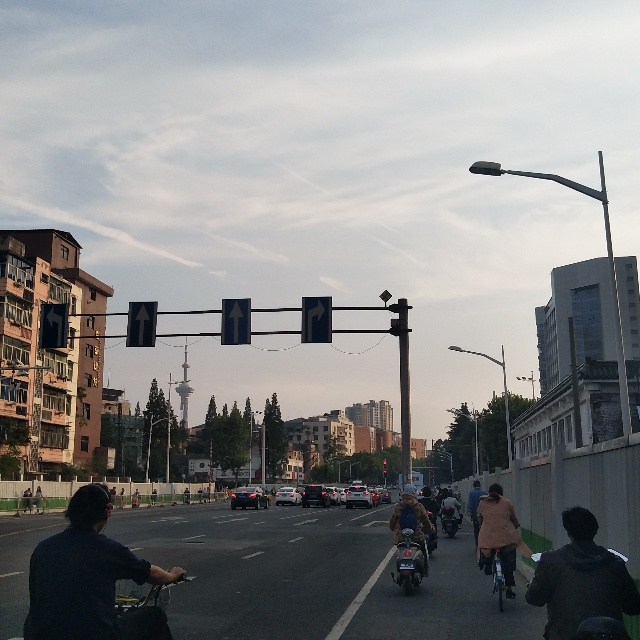left: (42, 305, 65, 346)
right: (305, 299, 335, 342)
straight: (219, 299, 253, 342), (129, 301, 155, 348)
